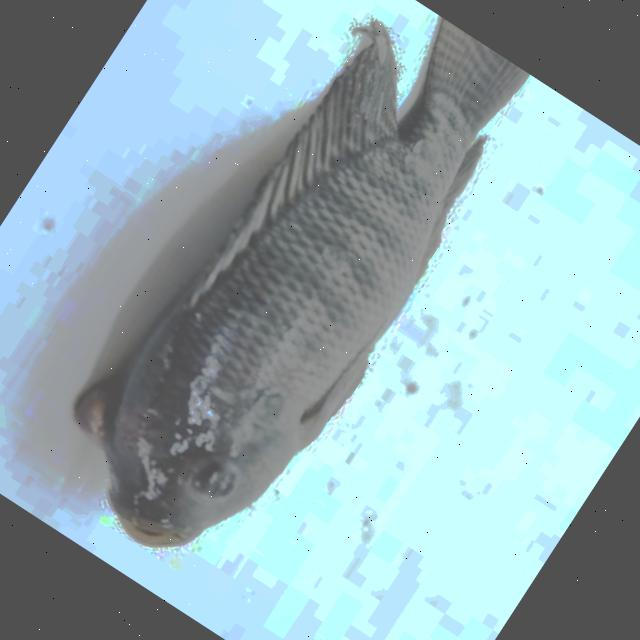Streptococcus: (76, 19, 526, 542)
